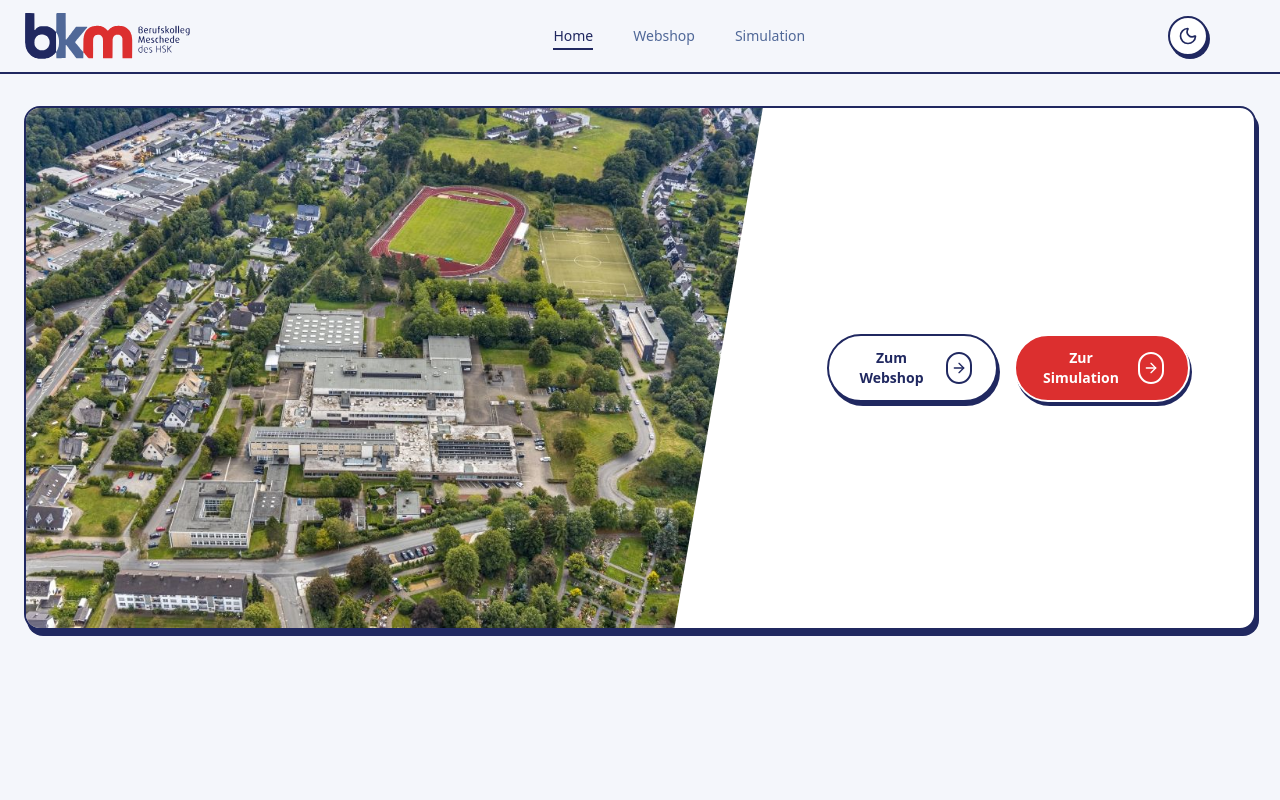
Test: App › keeps the cart when the order fails
This screenshot has width=1280, height=800.
Click the button "Webshop": point(664, 36) [633,26,695,46]
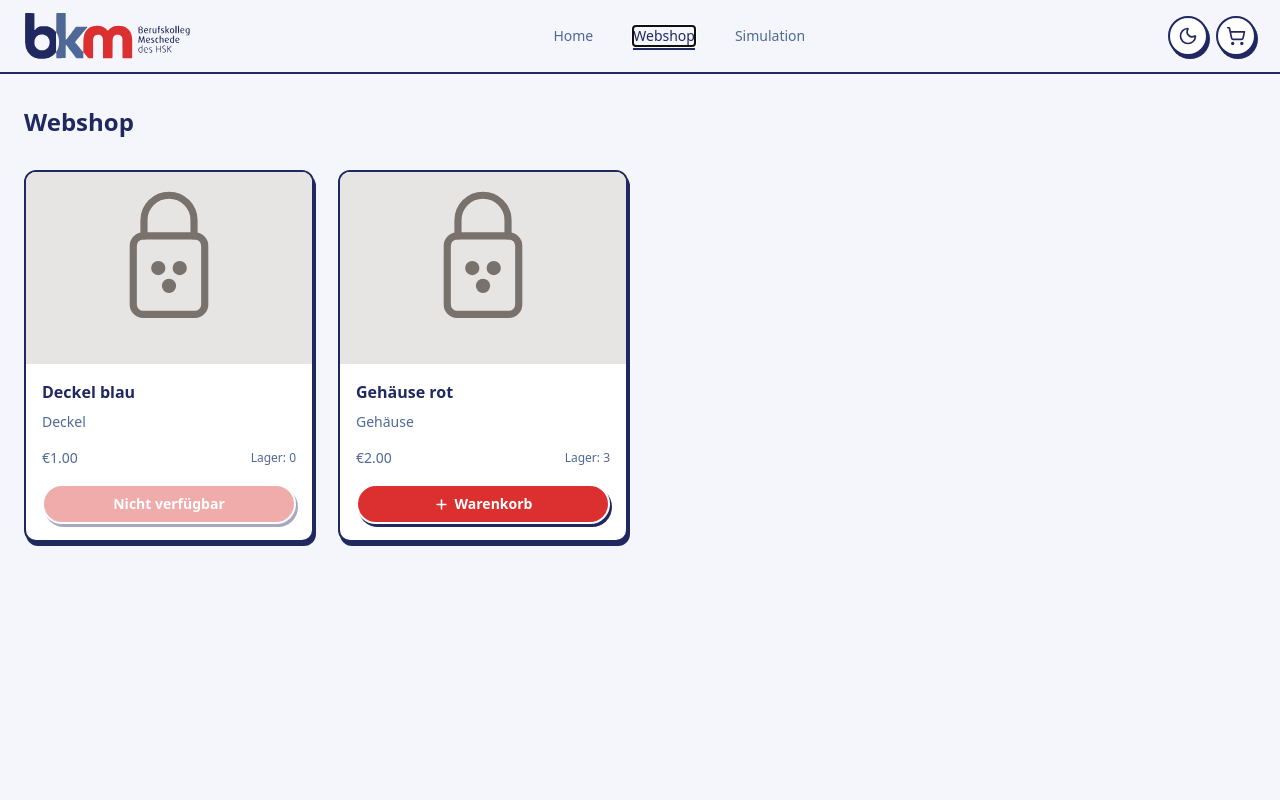
Now the heading "Gehäuse rot" is shown, box [356,381,453,403]
Click the button "Warenkorb": point(483, 504) [356,484,610,524]
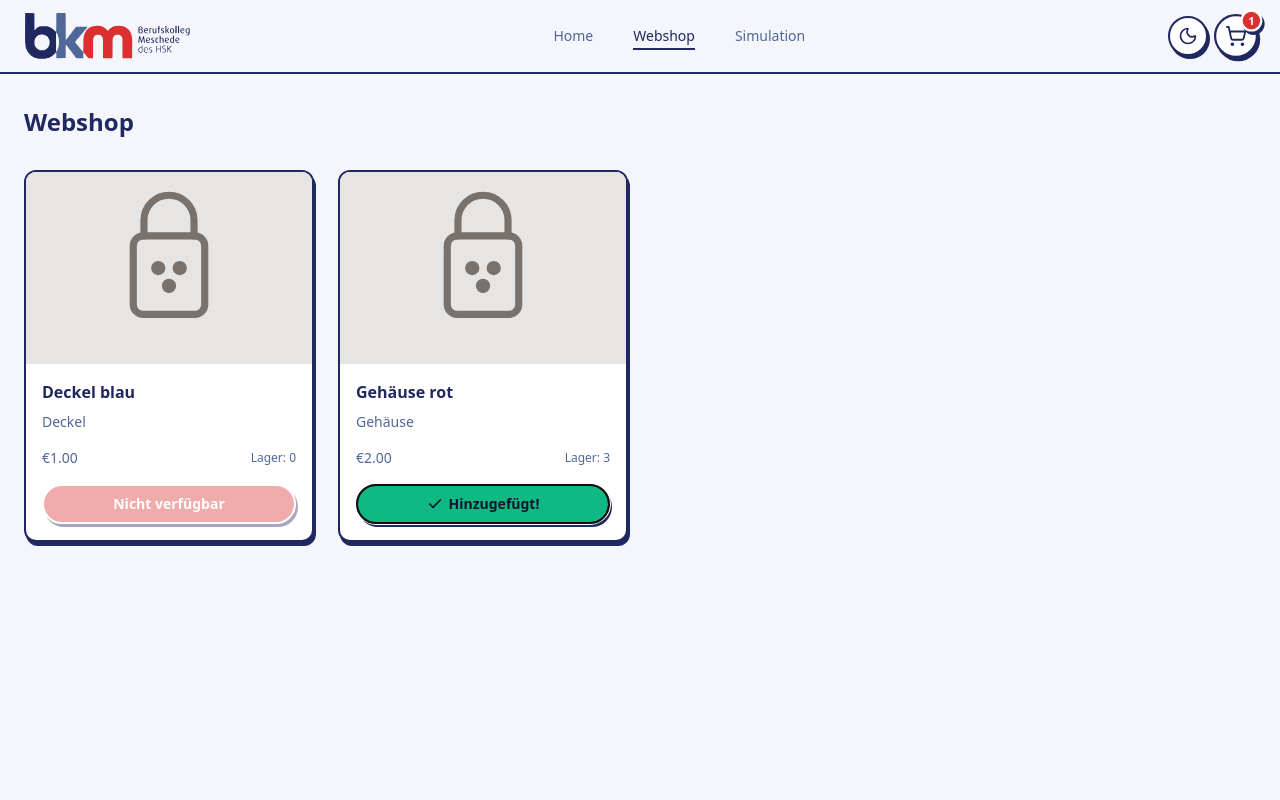
Click the button named "Warenkorb öffnen, 1 Artikel": point(1236, 36) [1214,14,1258,58]
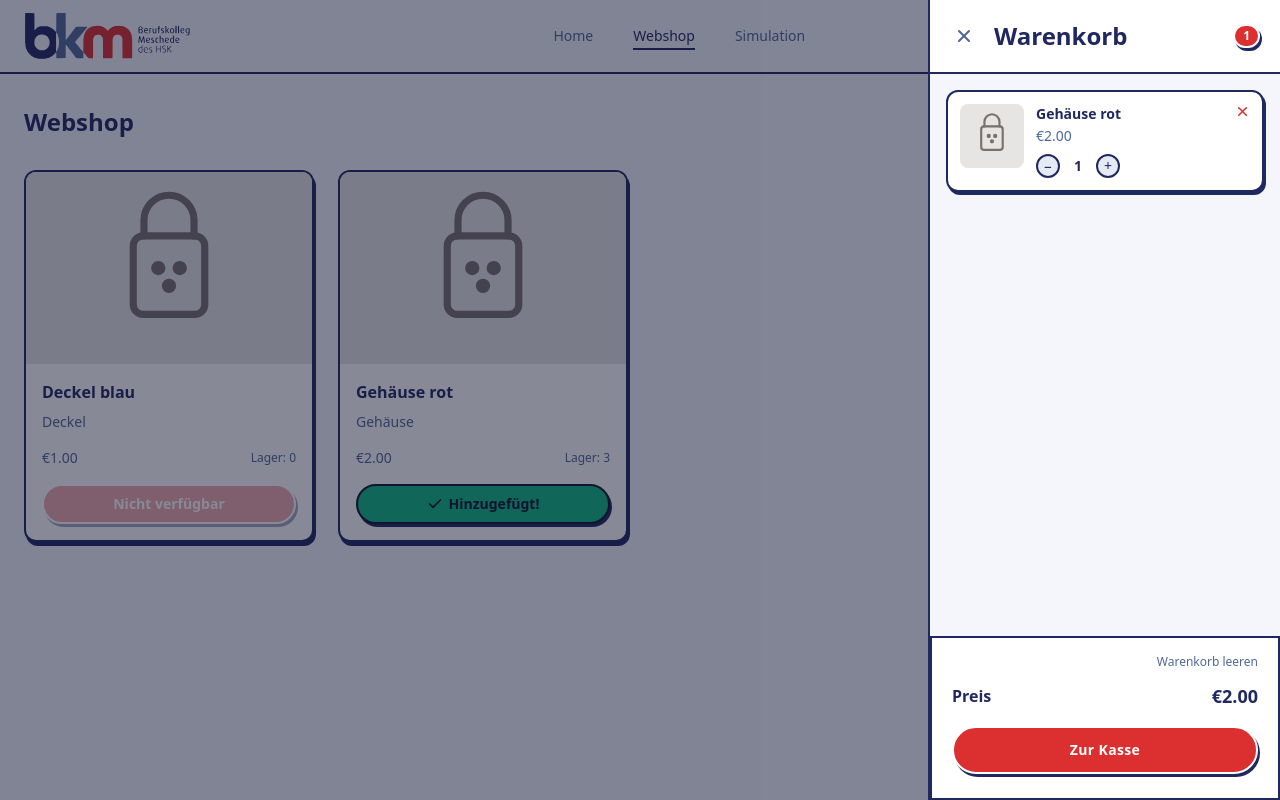
Click the button "Zur Kasse": point(1105, 750) [952,726,1258,774]
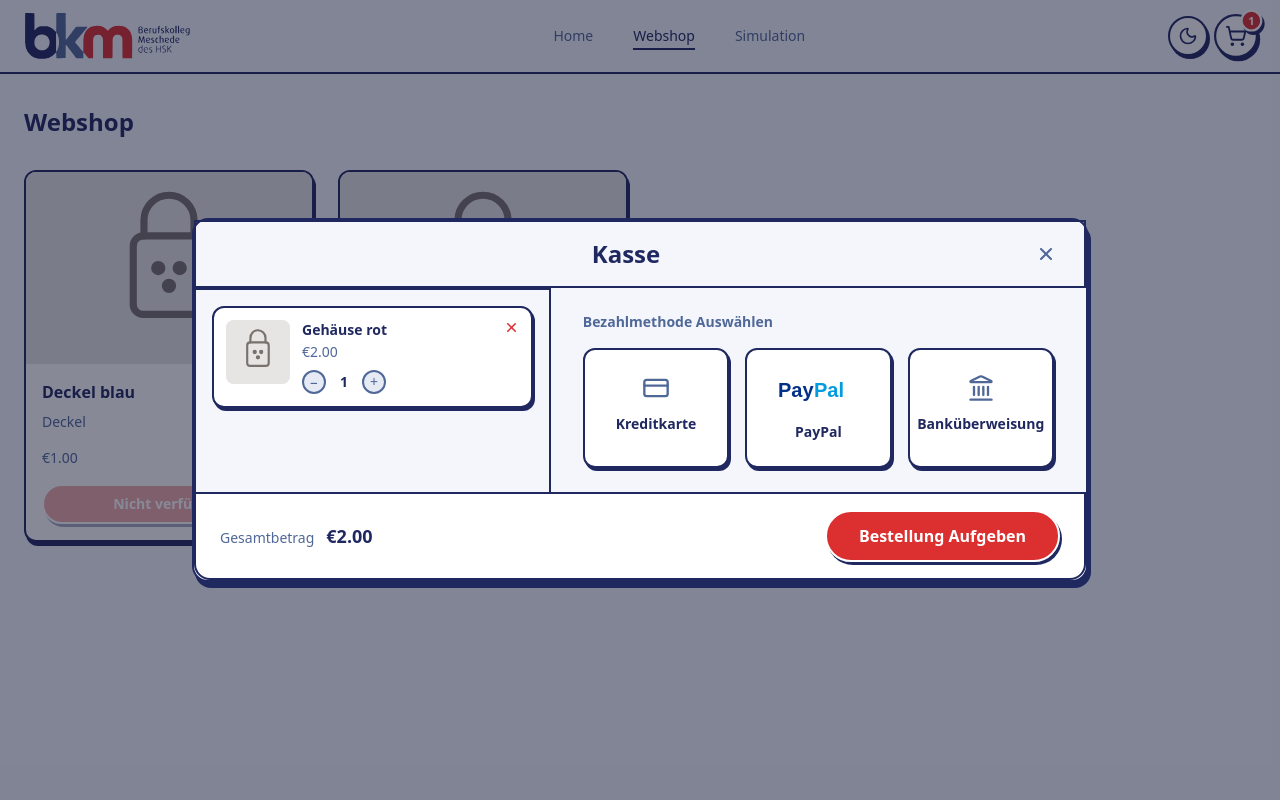
Click the button "Kreditkarte": point(656, 408) [583,348,729,468]
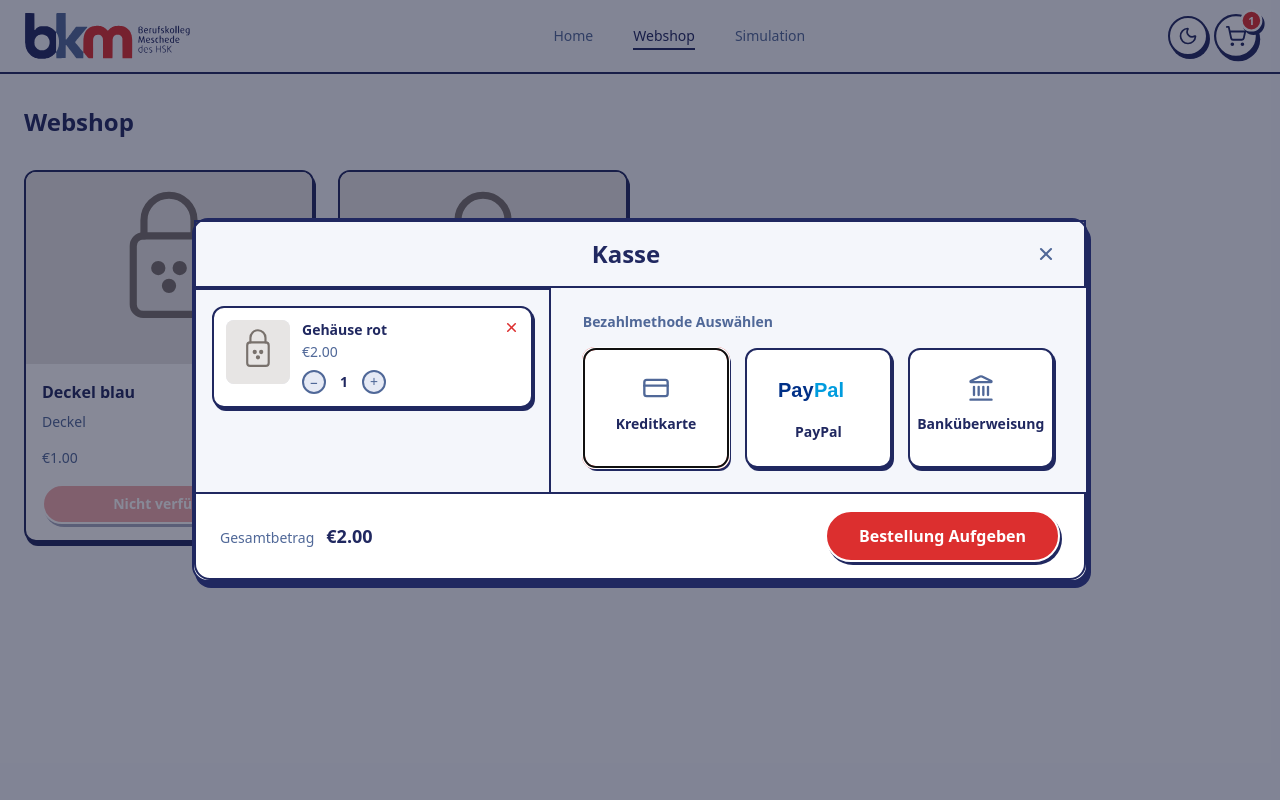
Click the button "Bestellung Aufgeben": point(942, 536) [825,510,1060,562]
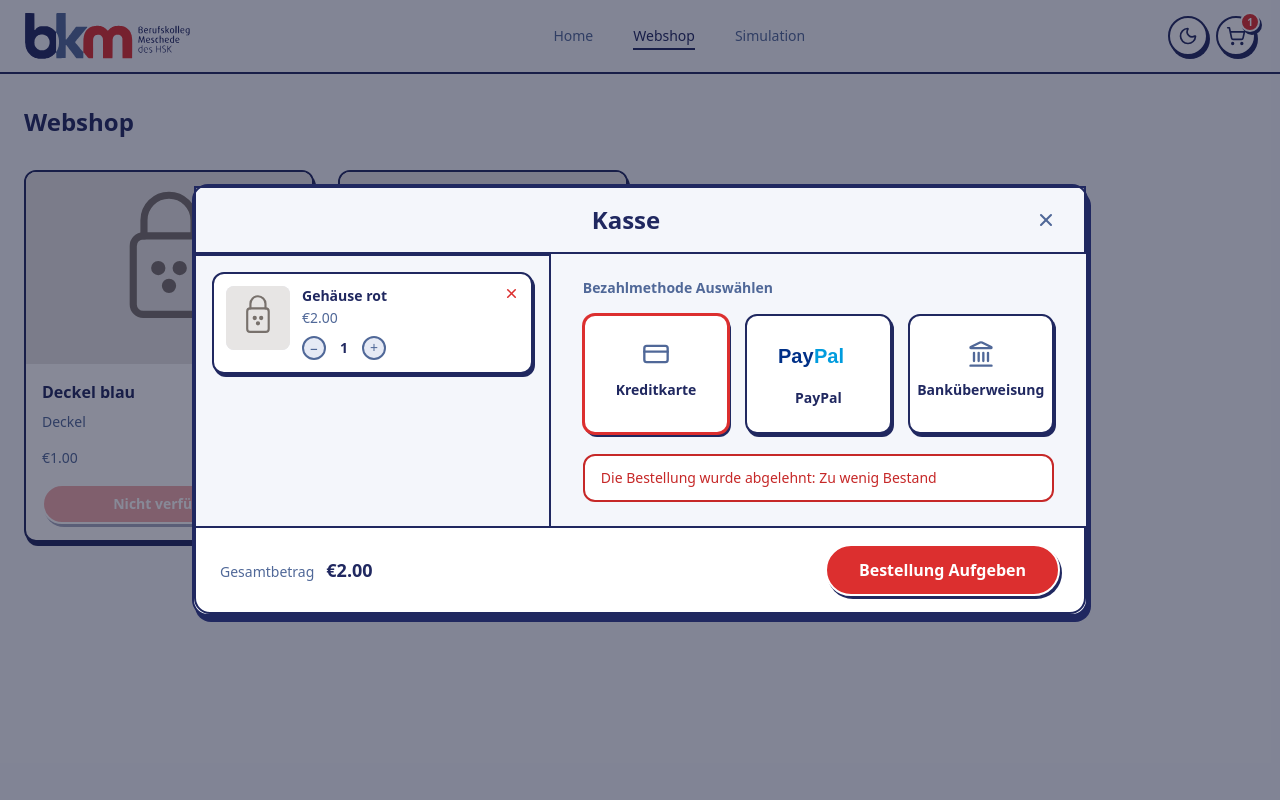
Now the button named "Warenkorb öffnen, 1 Artikel" is shown, box [1216,16,1256,56]
Now the message shows "Zu wenig Bestand", box [601,468,937,487]
